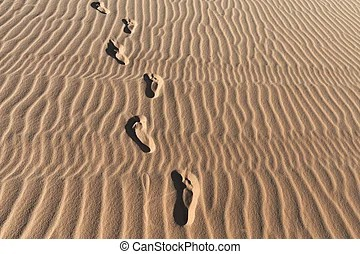human_foot_print: (158, 166, 206, 226), (118, 110, 161, 155), (98, 39, 129, 65), (138, 69, 165, 97), (85, 1, 113, 15), (121, 15, 140, 33)
